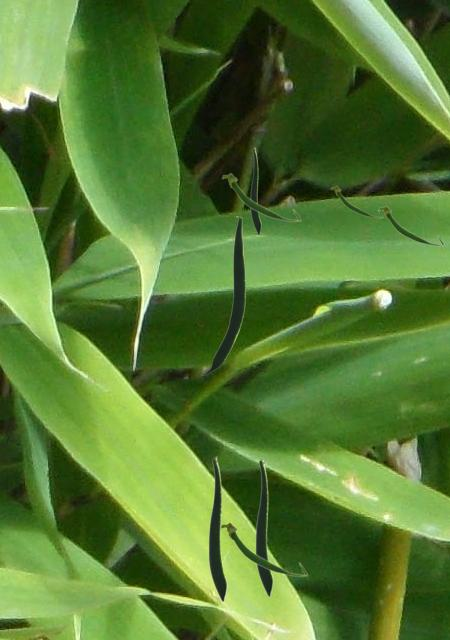french_bean: (201, 216, 244, 374), (219, 521, 307, 576), (221, 172, 300, 221), (208, 456, 226, 601), (378, 205, 443, 245), (255, 458, 272, 596), (330, 185, 382, 217), (250, 147, 260, 234)
